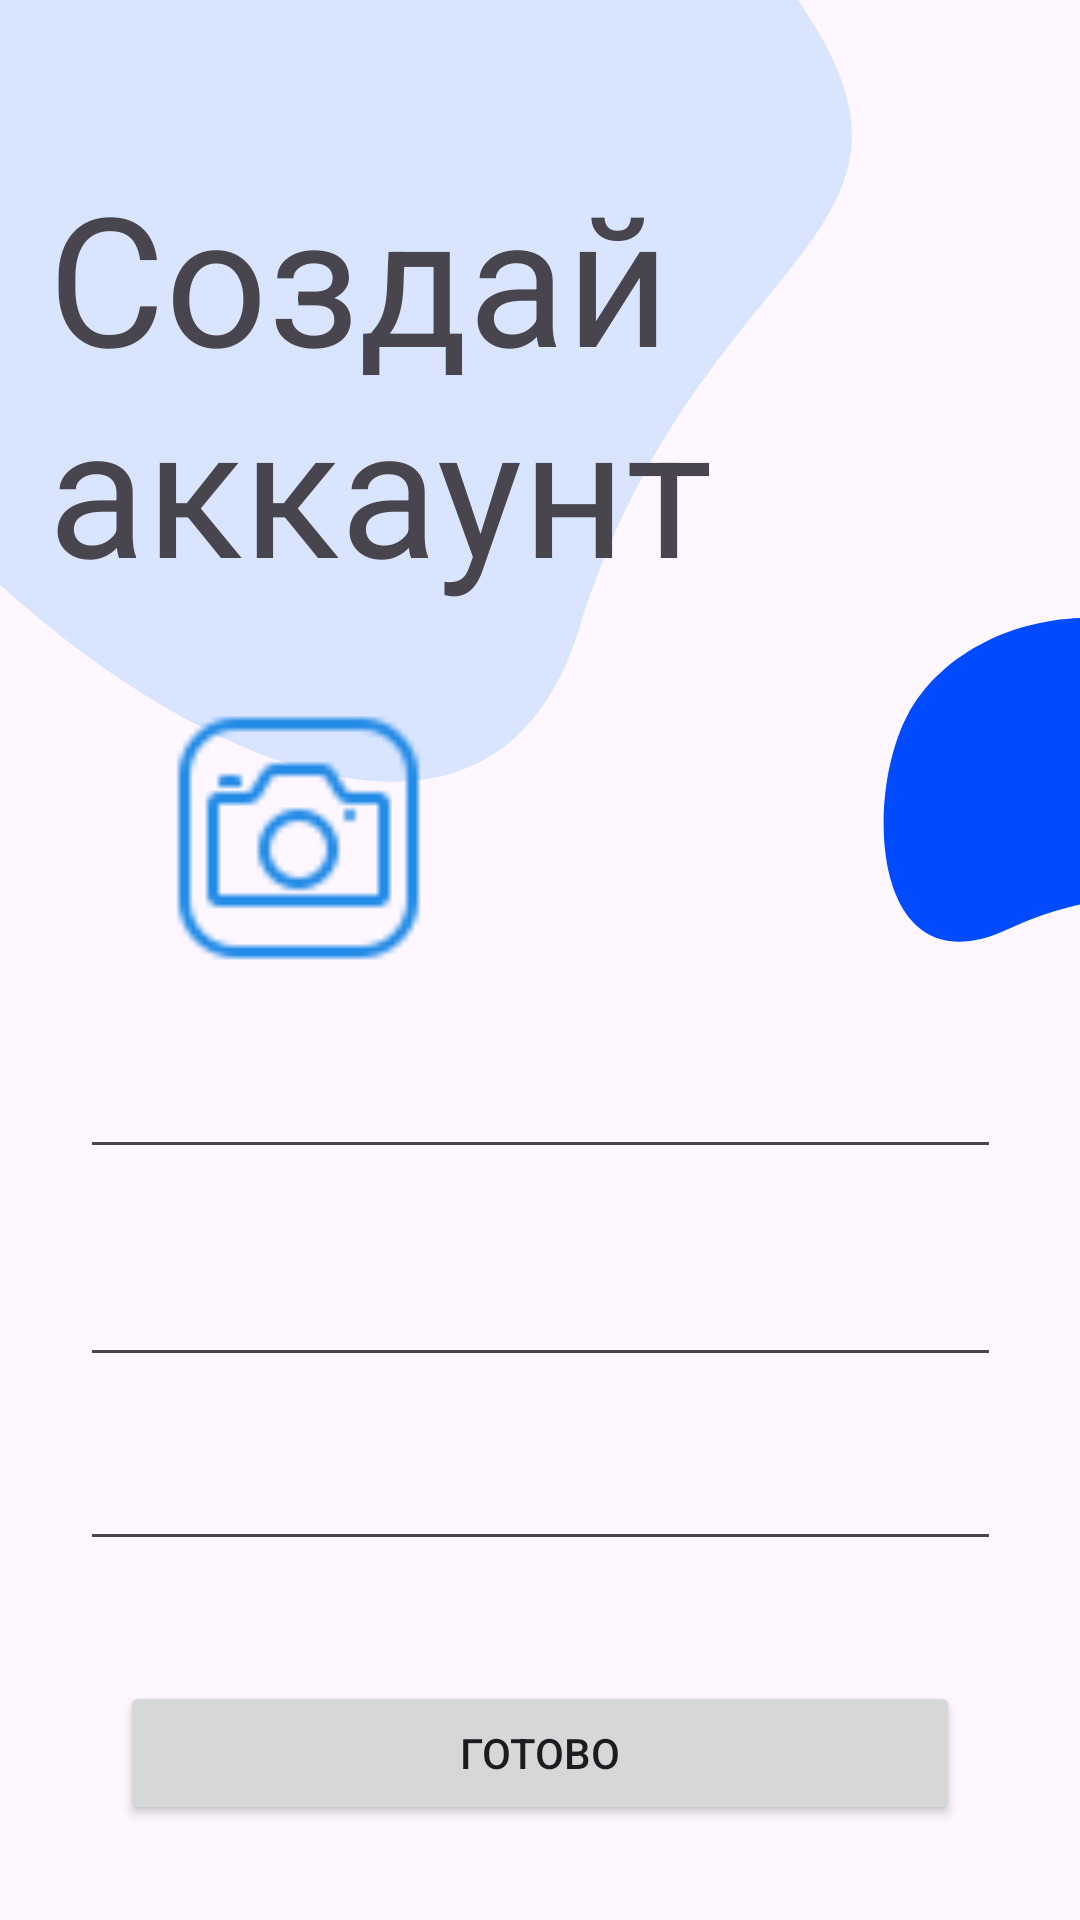

Icons on this 1080 × 1920 Android screen, each with its box as [left=x1, top=y1, right=x2, bottom=y2]:
camera: [left=156, top=691, right=441, bottom=960]
